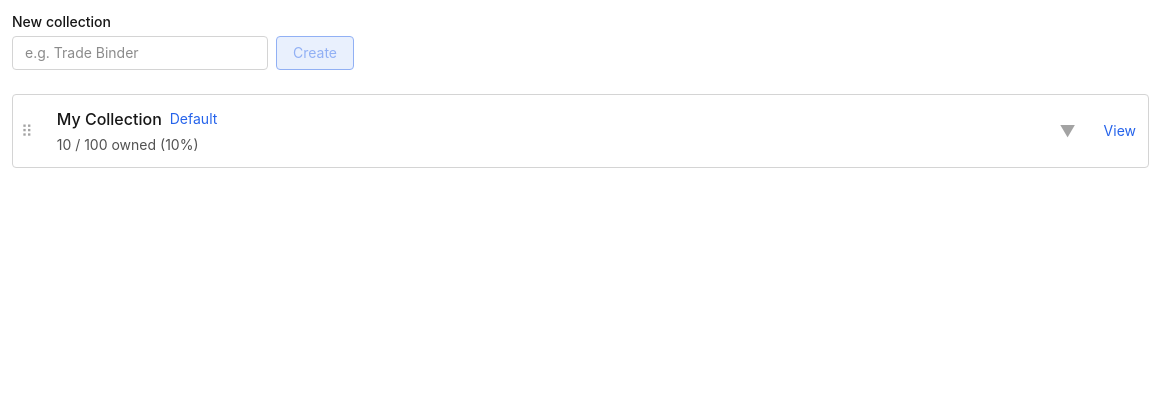
CollectionsList › Set as Default is disabled for the collection that is already default
This screenshot has width=1164, height=414.
Click the text "My Collection".
click(109, 119)  # box [57, 107, 162, 131]
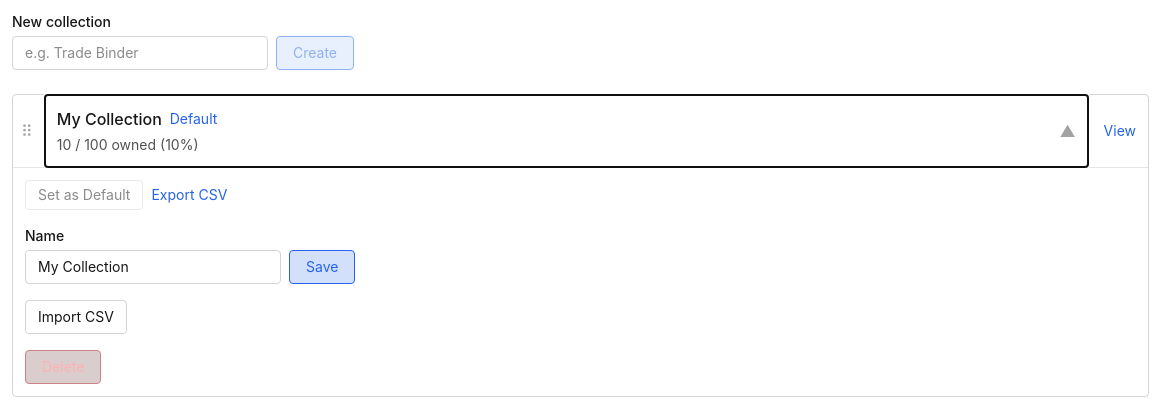
Result: the button "Set as Default" is disabled at [25, 180, 143, 210]
